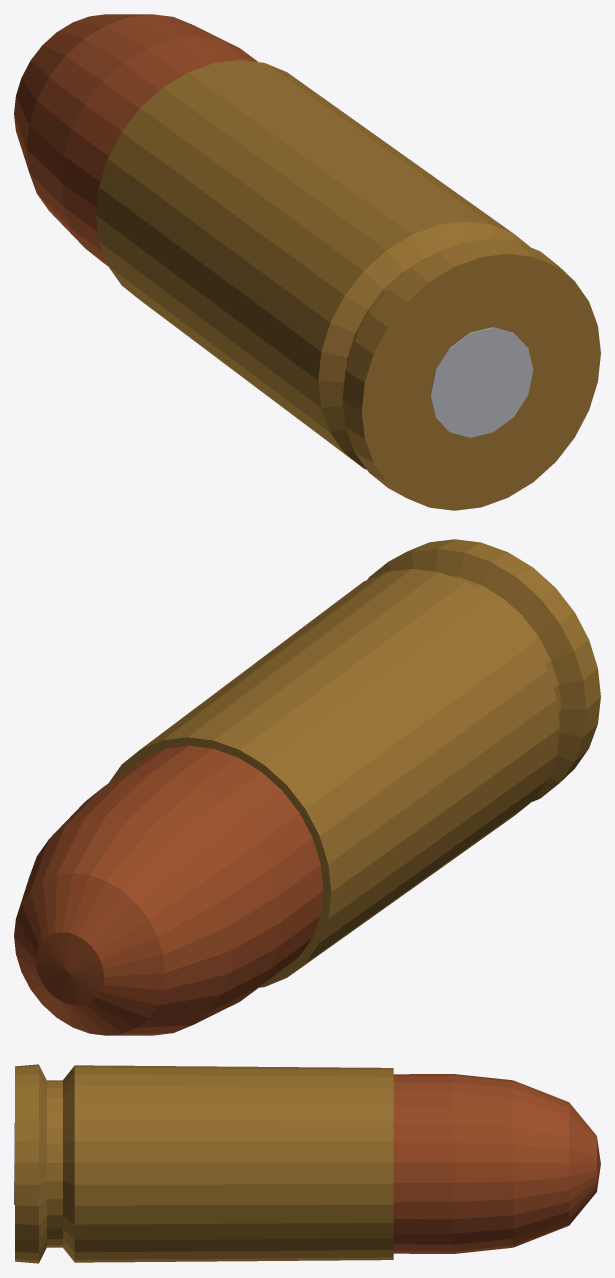
The model's file is municao_9mm.glb.
3 views of the same model, one above another, from view 1: azimuth 30°, elevation 25°; view 2: azimuth 150°, elevation 25°; view 3: azimuth 270°, elevation 25° (orthographic). The views are drawn at different scales.
Visible parts, largest first — view 1: municao_9mm_latao, municao_9mm_cobre_bala, municao_9mm_aco_inox; view 2: municao_9mm_latao, municao_9mm_cobre_bala; view 3: municao_9mm_latao, municao_9mm_cobre_bala.
Boxes of the visible parts, x1,y1,x2,y2 form: municao_9mm_latao: [96, 60, 600, 510]; municao_9mm_cobre_bala: [14, 14, 257, 265]; municao_9mm_aco_inox: [430, 327, 533, 437]; municao_9mm_latao: [109, 539, 600, 987]; municao_9mm_cobre_bala: [14, 745, 323, 1035]; municao_9mm_latao: [15, 1064, 393, 1263]; municao_9mm_cobre_bala: [393, 1074, 600, 1253].
Size of the model in its own units: 0.01 by 0.01 by 0.0295.
